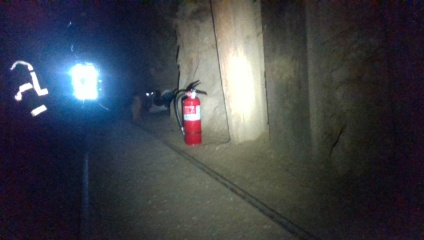fire_extinguisher: (170, 80, 208, 143)
manikin: (11, 41, 65, 136)
